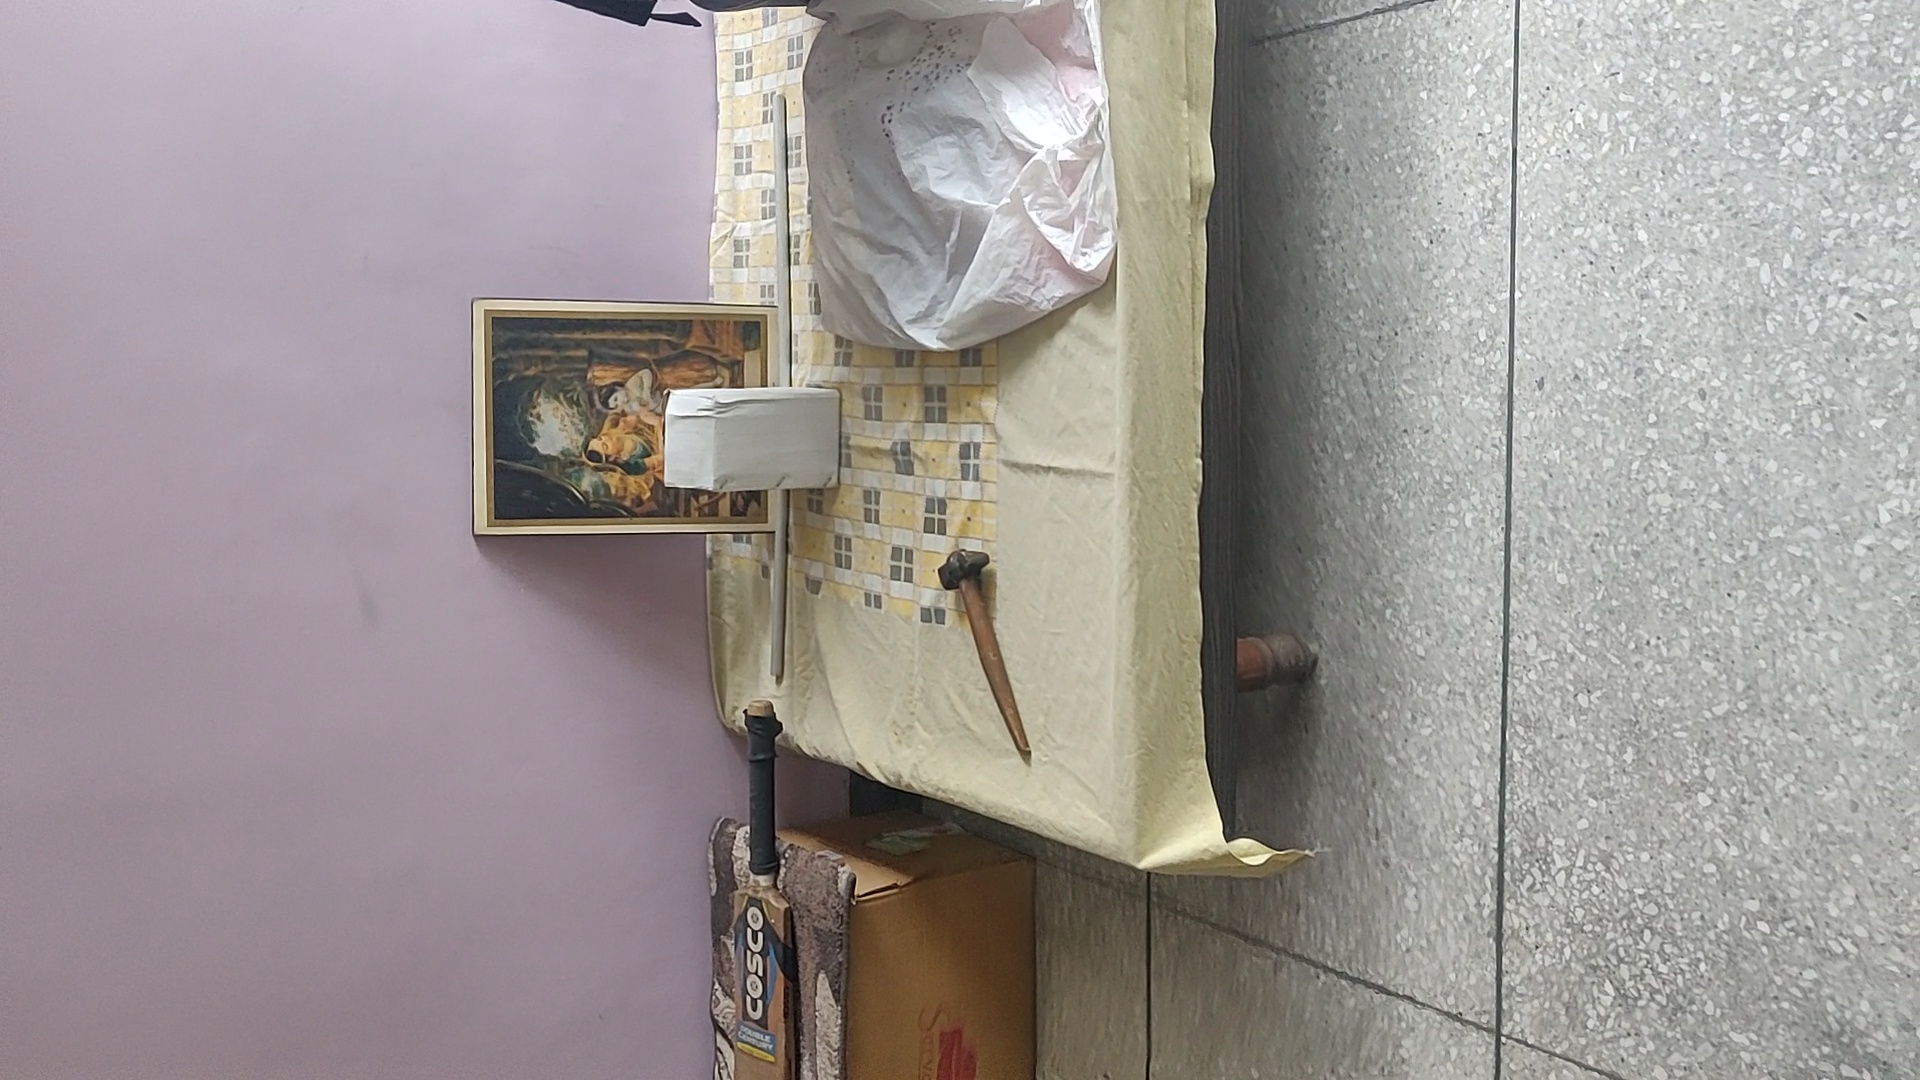hammer: (936, 545, 1033, 762)
